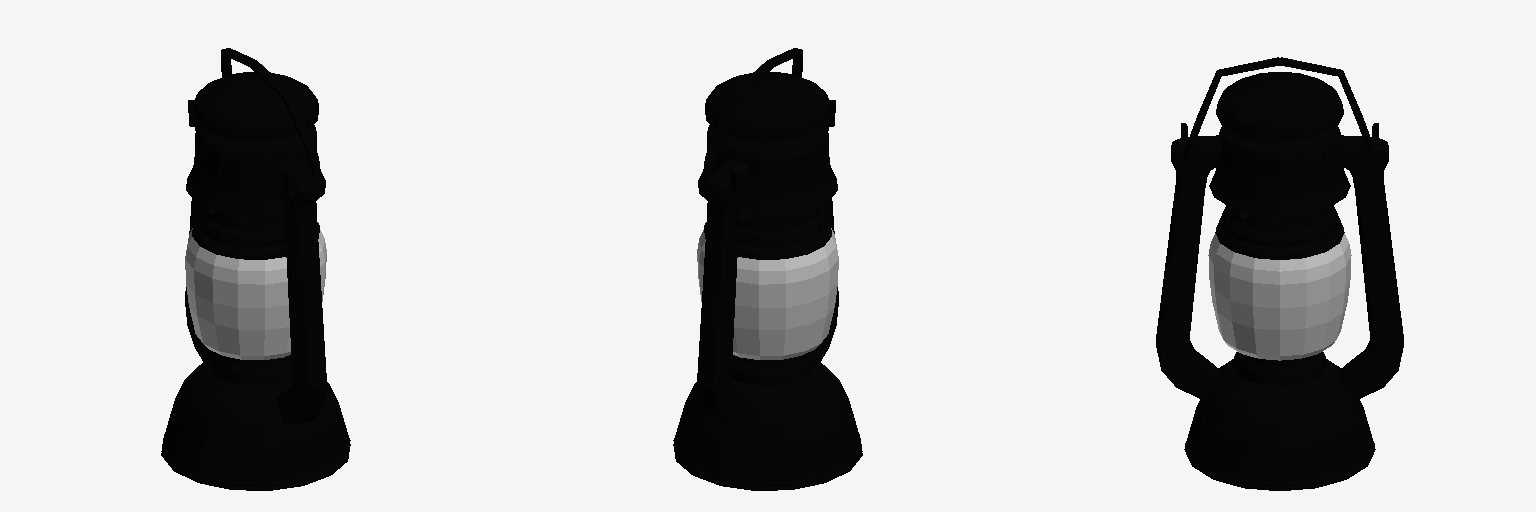
Rendered from Lamp.obj.
The picture shows the model from 3 angles: view 1: azimuth 30°, elevation 25°; view 2: azimuth 150°, elevation 25°; view 3: azimuth 270°, elevation 25°; orthographic projection.
Parts seen in each view (by area): view 1: BezierCurve.003_BezierCurve.004, BezierCurve.001_BezierCurve.002, BezierCurve.002_BezierCurve.001, Plane, BezierCurve.004_BezierCurve.005, BezierCurve_BezierCurve.001; view 2: BezierCurve.003_BezierCurve.004, BezierCurve.001_BezierCurve.002, BezierCurve.002_BezierCurve.001, Plane, BezierCurve.004_BezierCurve.005, BezierCurve_BezierCurve.001; view 3: Plane, BezierCurve.003_BezierCurve.004, BezierCurve.001_BezierCurve.002, BezierCurve.002_BezierCurve.001, BezierCurve.004_BezierCurve.005, BezierCurve_BezierCurve.001.
Boxes of the visible parts, x1=… form: BezierCurve.003_BezierCurve.004: x1=161, y1=358, x2=350, y2=490; BezierCurve.001_BezierCurve.002: x1=186, y1=125, x2=325, y2=385; BezierCurve.002_BezierCurve.001: x1=185, y1=228, x2=326, y2=359; Plane: x1=185, y1=126, x2=326, y2=425; BezierCurve.004_BezierCurve.005: x1=193, y1=72, x2=318, y2=140; BezierCurve_BezierCurve.001: x1=188, y1=48, x2=322, y2=196; BezierCurve.003_BezierCurve.004: x1=673, y1=358, x2=862, y2=490; BezierCurve.001_BezierCurve.002: x1=698, y1=125, x2=837, y2=385; BezierCurve.002_BezierCurve.001: x1=697, y1=228, x2=838, y2=359; Plane: x1=697, y1=126, x2=838, y2=425; BezierCurve.004_BezierCurve.005: x1=705, y1=72, x2=830, y2=140; BezierCurve_BezierCurve.001: x1=701, y1=48, x2=835, y2=196; Plane: x1=1156, y1=135, x2=1403, y2=399; BezierCurve.003_BezierCurve.004: x1=1184, y1=359, x2=1375, y2=490; BezierCurve.001_BezierCurve.002: x1=1209, y1=125, x2=1350, y2=386; BezierCurve.002_BezierCurve.001: x1=1208, y1=233, x2=1351, y2=360; BezierCurve.004_BezierCurve.005: x1=1216, y1=72, x2=1343, y2=140; BezierCurve_BezierCurve.001: x1=1181, y1=57, x2=1378, y2=165.
Bounding box in the file's own units: 3.97 × 8.96 × 5.15.